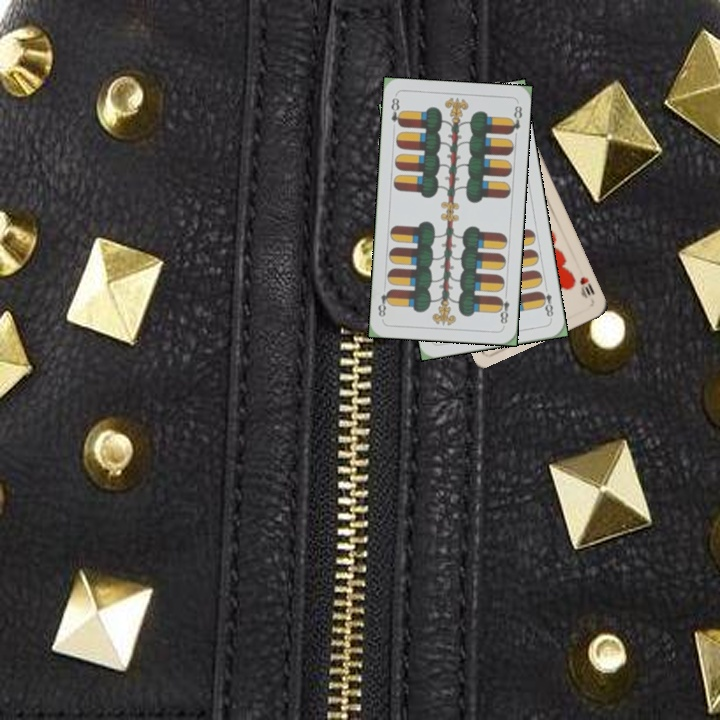E8: (536, 282, 556, 322), (494, 288, 512, 327), (387, 94, 405, 130)
H10: (576, 273, 597, 301)
